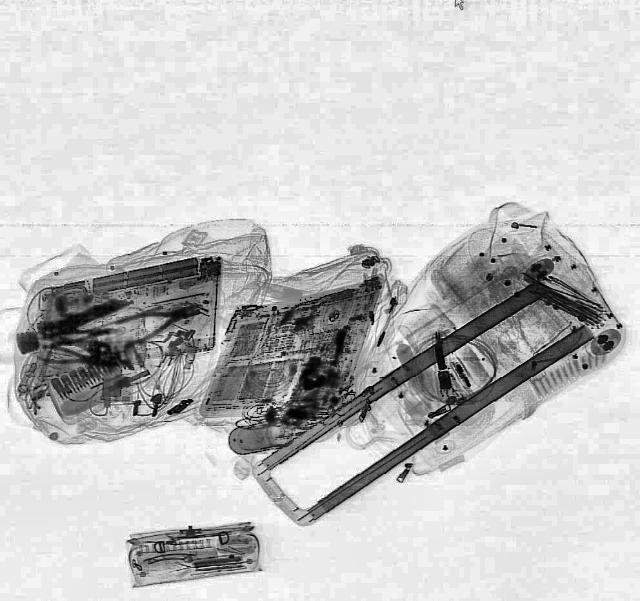Pliers: (112, 295, 205, 346), (35, 343, 101, 370)
